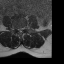CCS_normal: (19, 26, 21, 34)
LFS_normal: (22, 25, 24, 31)
LLS_normal: (21, 26, 22, 33)
RFS_normal: (16, 26, 18, 31)
RLS_normal: (18, 26, 19, 32)
